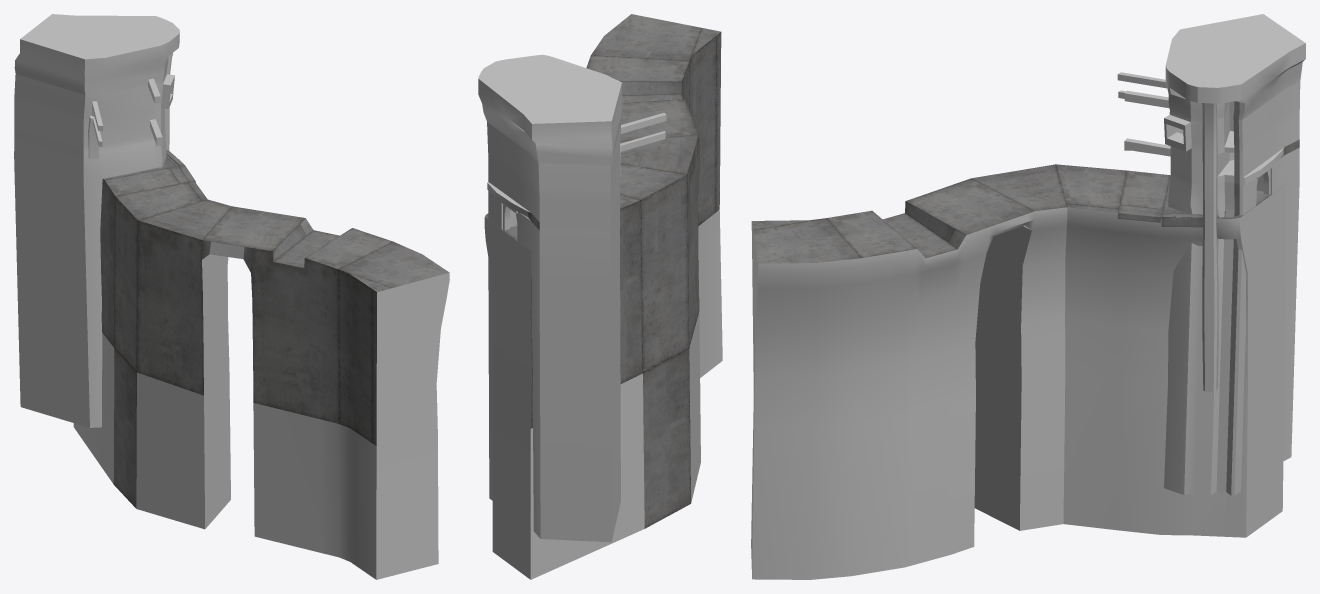
3 renders of one model, left to right at view 1: azimuth 30°, elevation 25°; view 2: azimuth 150°, elevation 25°; view 3: azimuth 270°, elevation 25°, orthographic. The views are drawn at different scales.
Parts seen in each view (by area): view 1: Cube.058; view 2: Cube.058; view 3: Cube.058.
Boxes of the visible parts, x1=… form: Cube.058: x1=14, y1=14, x2=449, y2=579; Cube.058: x1=478, y1=14, x2=722, y2=579; Cube.058: x1=751, y1=14, x2=1305, y2=579.
Size of the model in its own units: 2822 by 5296 by 5730.
